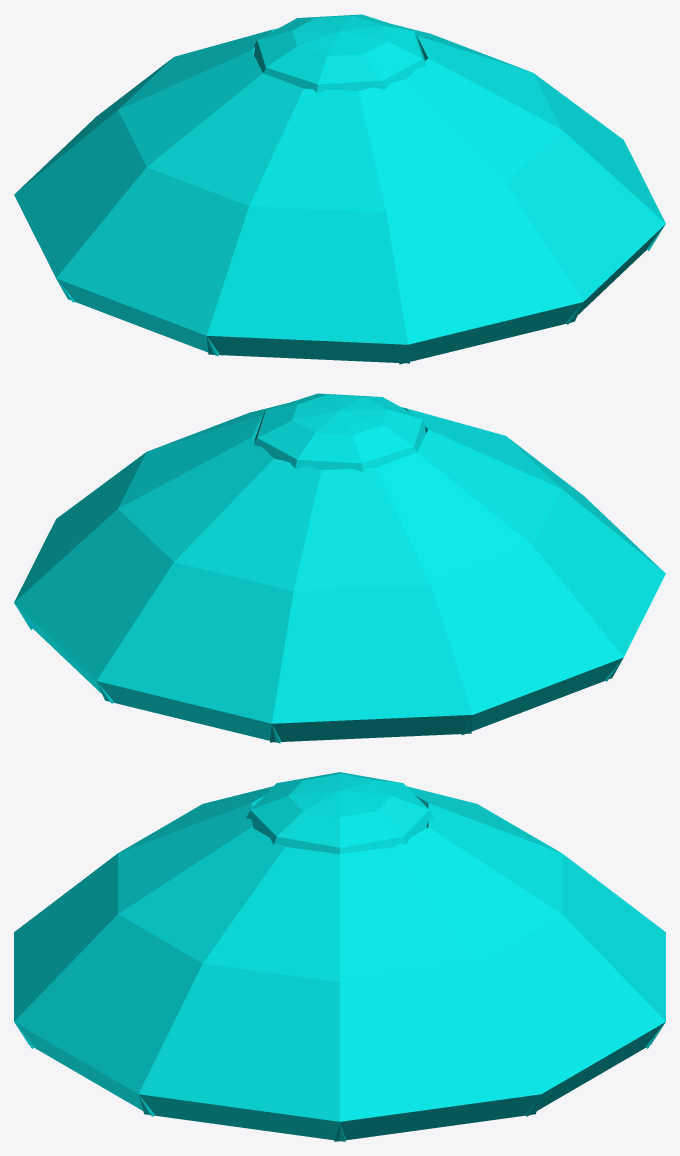
File: SM_Bld_Roof_Thatch_Tower_01_Collision.fbx
The picture shows the model from 3 angles, top to bottom: view 1: azimuth 30°, elevation 25°; view 2: azimuth 150°, elevation 25°; view 3: azimuth 270°, elevation 25°; orthographic projection. The views are drawn at different scales.
Visible parts, largest first — view 1: SM_Bld_Roof_Thatch_Tower_01_Collision; view 2: SM_Bld_Roof_Thatch_Tower_01_Collision; view 3: SM_Bld_Roof_Thatch_Tower_01_Collision.
Part boxes in pixels (<box>): SM_Bld_Roof_Thatch_Tower_01_Collision: <box>14,14,665,364</box>; SM_Bld_Roof_Thatch_Tower_01_Collision: <box>14,393,665,743</box>; SM_Bld_Roof_Thatch_Tower_01_Collision: <box>14,772,665,1141</box>.
Size of the model in its own units: 738 by 254 by 701.
